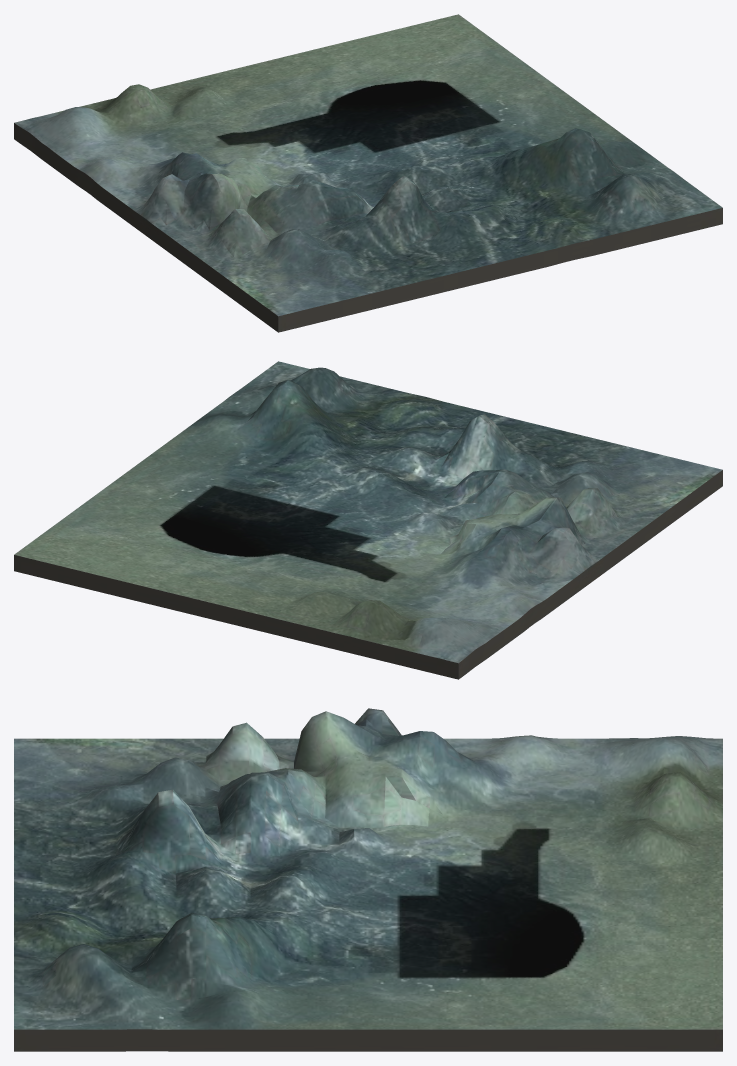
The model's file is dixingYNSCYQ.glb.
3 renders of one model, top to bottom at view 1: azimuth 30°, elevation 25°; view 2: azimuth 150°, elevation 25°; view 3: azimuth 270°, elevation 25°, orthographic. The views are drawn at different scales.
Visible parts, largest first — view 1: dixingYNSCYQ; view 2: dixingYNSCYQ; view 3: dixingYNSCYQ.
Part boxes in pixels (left/top/right/bottom): dixingYNSCYQ: left=14, top=14, right=722, bottom=332; dixingYNSCYQ: left=14, top=361, right=722, bottom=679; dixingYNSCYQ: left=14, top=708, right=722, bottom=1051.
Bounding box in the file's own units: 50543 × 7442 × 51991.
Materials: 1 (1 with a texture image).
